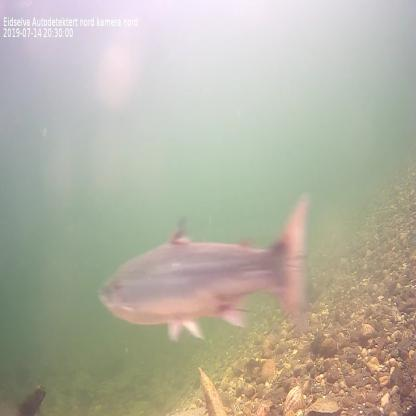salmon: (95, 192, 316, 346)
